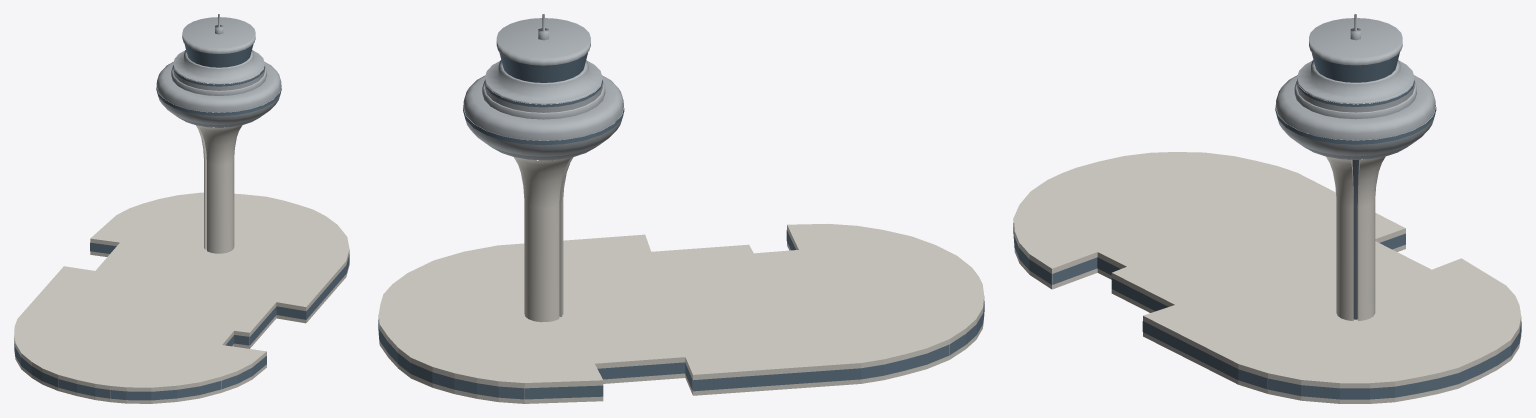
File: madrid-barajas-control-tower.glb
3 views of the same model, side by side, from view 1: azimuth 30°, elevation 25°; view 2: azimuth 150°, elevation 25°; view 3: azimuth 270°, elevation 25° (orthographic). The views are drawn at different scales.
Visible parts, largest first — view 1: Madrid-Barajas Control Tower; view 2: Madrid-Barajas Control Tower; view 3: Madrid-Barajas Control Tower.
Boxes of the visible parts, x1,y1,x2,y2 form: Madrid-Barajas Control Tower: (14,14,349,403); Madrid-Barajas Control Tower: (378,14,984,403); Madrid-Barajas Control Tower: (1013,14,1521,403).
Bounding box in the file's own units: 107 × 69 × 99.52.
